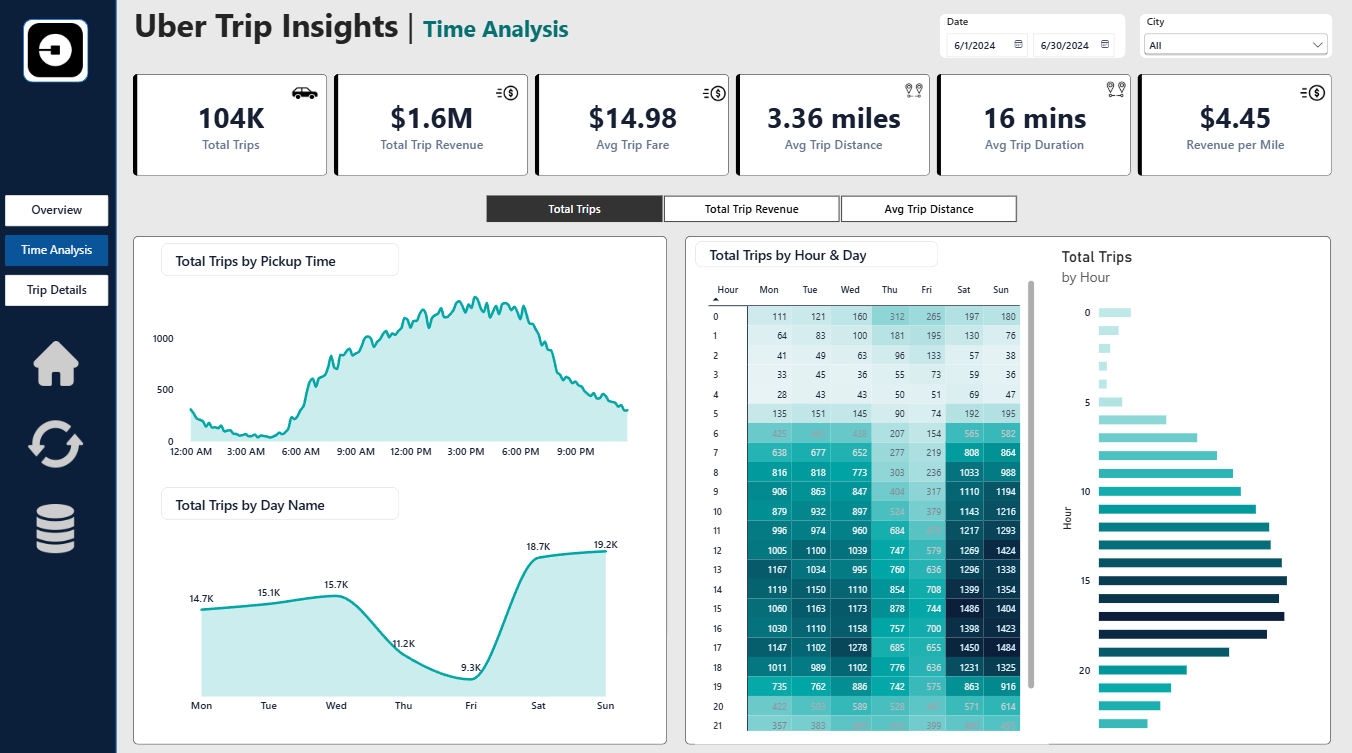

What the dashboard file says about the page in this screenshot:
{"tool":"powerbi","page":{"name":"Time Analysis","canvas":[1600,900],"ordinal":1},"visuals":[{"type":"shape","box":[0,0,142,900],"z":0},{"type":"textbox","box":[162.2,10,605.6,57.8],"z":1000},{"type":"cardVisual","fields":{"Data":["Core Measures.Total Trips","Core Measures.Total Trip Revenue","Core Measures.Avg Trip Fare","Core Measures.Avg Trip Distance","Core Measures.Avg Trip Duration","Core Measures.Revenue per Mile"]},"box":[162,93,1415,120],"z":2000},{"type":"image","box":[584.4,102.2,37.8,25.6],"z":3000},{"type":"image","box":[1070,102.2,26.7,20],"z":4000},{"type":"image","box":[1308.9,100,23.3,22.2],"z":5000},{"type":"image","box":[1529.1,100.9,48.7,28.3],"z":6000},{"type":"image","box":[832.2,102.2,28.9,26.7],"z":7000},{"type":"shape","box":[162.1,284.5,630,600],"z":8000},{"type":"image","box":[341.1,100,47.8,31.1],"z":9000},{"type":"slicer","fields":{"Values":["Dynamic Measure.Dynamic Measure"]},"box":[557.7,234.6,665.4,35.1],"z":10000},{"type":"slicer","fields":{"Values":["DimDate.Date"]},"box":[1112,21.5,221,54.4],"z":11000},{"type":"slicer","fields":{"Values":["DimPickup.PickupCity"]},"box":[1347.7,21.5,229,54.4],"z":12000},{"type":"areaChart","fields":{"Category":["FactTrips.Pickup Hour (HH MM SS) (bins)"],"Y":["Core Measures.Total Trips"]},"box":[168.9,332.1,615,235],"z":13000},{"type":"cardVisual","fields":{"Data":["FactTrips.Title for by Pickup Time"]},"box":[195,292.4,281.1,39.7],"z":14000},{"type":"lineChart","fields":{"Category":["DimDate.Day Name"],"Y":["Core Measures.Total Trips"]},"box":[195,620,572.4,247.1],"z":15000},{"type":"cardVisual","fields":{"Data":["FactTrips.Title for by Day Name"]},"box":[195,580.4,281.1,39.7],"z":16000},{"type":"shape","box":[812.7,284.5,762,600],"z":17000},{"type":"pivotTable","fields":{"Columns":["DimDate.Day Name"],"Rows":["FactTrips.Pickup Hour"],"Values":["Core Measures.Total Trips"]},"box":[824.1,321.9,417.1,562.2],"z":18000},{"type":"barChart","fields":{"Category":["FactTrips.Pickup Hour"],"Y":["Core Measures.Total Trips"]},"box":[1241.2,284.5,300.4,599.6],"z":19000},{"type":"cardVisual","fields":{"Data":["FactTrips.Title for by Hour & Day"]},"box":[824.1,290.2,287.9,31.7],"z":20000},{"type":"shape","box":[31.7,28.3,77.1,74.8],"z":20001},{"type":"pageNavigator","box":[10.2,235.8,122.4,131.5],"z":20003},{"type":"image","box":[16.7,33.3,106.7,64.4],"z":20004},{"type":"image","box":[12.2,496.7,116.7,65.6],"z":20005},{"type":"image","box":[13.3,600,114.4,57.8],"z":20006},{"type":"image","box":[15.6,407.8,111.1,53.3],"z":20007}]}

Visuals, with their boxes on the page's 1600x900 design canvas (x1, y1, x2, y2). These are canvas units, not pixel positions in the 1352x753 screenshot, which may show the page scaled, cropped or inside an application window:
shape: box=[0, 0, 142, 900]
textbox: box=[162, 10, 768, 68]
cardVisual - Core Measures.Total Trips x Core Measures.Total Trip Revenue: box=[162, 93, 1577, 213]
image: box=[584, 102, 622, 128]
image: box=[1070, 102, 1097, 122]
image: box=[1309, 100, 1332, 122]
image: box=[1529, 101, 1578, 129]
image: box=[832, 102, 861, 129]
shape: box=[162, 284, 792, 884]
image: box=[341, 100, 389, 131]
slicer - Dynamic Measure.Dynamic Measure: box=[558, 235, 1223, 270]
slicer - DimDate.Date: box=[1112, 22, 1333, 76]
slicer - DimPickup.PickupCity: box=[1348, 22, 1577, 76]
areaChart - FactTrips.Pickup Hour (HH MM SS) (bins) x Core Measures.Total Trips: box=[169, 332, 784, 567]
cardVisual - FactTrips.Title for by Pickup Time: box=[195, 292, 476, 332]
lineChart - DimDate.Day Name x Core Measures.Total Trips: box=[195, 620, 767, 867]
cardVisual - FactTrips.Title for by Day Name: box=[195, 580, 476, 620]
shape: box=[813, 284, 1575, 884]
pivotTable - DimDate.Day Name x FactTrips.Pickup Hour: box=[824, 322, 1241, 884]
barChart - FactTrips.Pickup Hour x Core Measures.Total Trips: box=[1241, 284, 1542, 884]
cardVisual - FactTrips.Title for by Hour & Day: box=[824, 290, 1112, 322]
shape: box=[32, 28, 109, 103]
pageNavigator: box=[10, 236, 133, 367]
image: box=[17, 33, 123, 98]
image: box=[12, 497, 129, 562]
image: box=[13, 600, 128, 658]
image: box=[16, 408, 127, 461]
